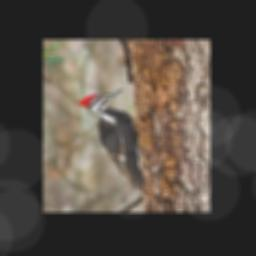Woodpecker: (79, 88, 143, 191)
